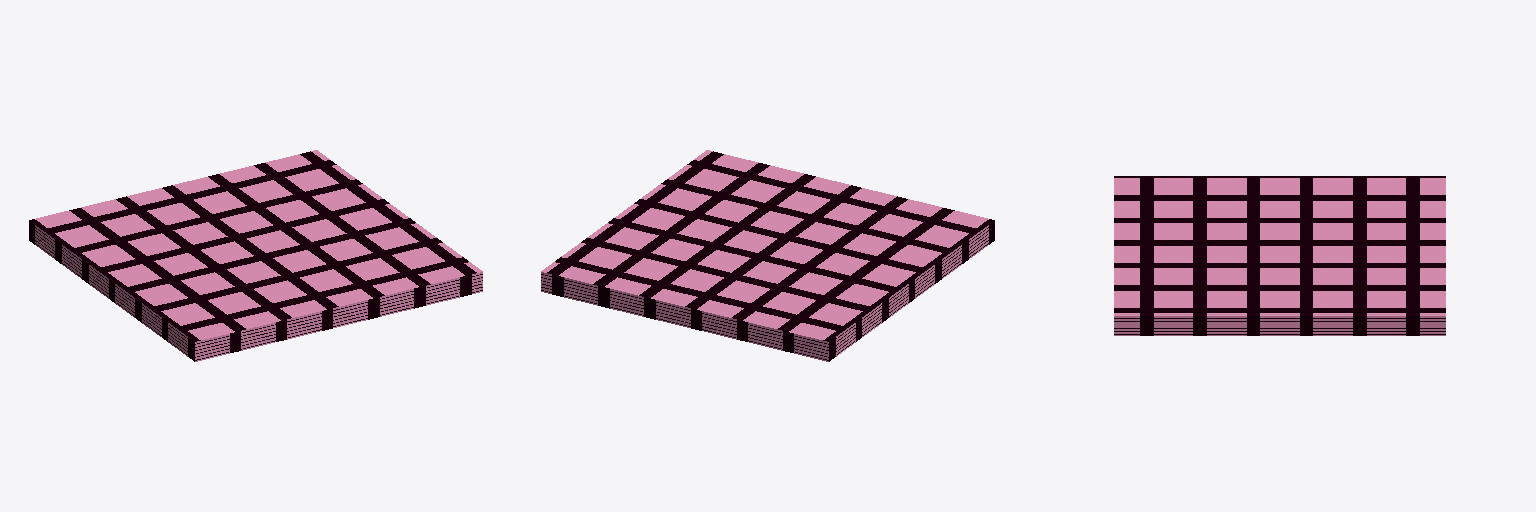
The picture shows the model from 3 angles: view 1: azimuth 30°, elevation 25°; view 2: azimuth 150°, elevation 25°; view 3: azimuth 270°, elevation 25°; orthographic projection.
Visible parts, largest first — view 1: Cube; view 2: Cube; view 3: Cube.
Part boxes in pixels (left/top/right/bottom): Cube: left=29, top=150, right=482, bottom=361; Cube: left=541, top=150, right=994, bottom=361; Cube: left=1114, top=176, right=1445, bottom=335.
Bounding box in the file's own units: 30 × 2 × 30.
1 materials, 1 textured.